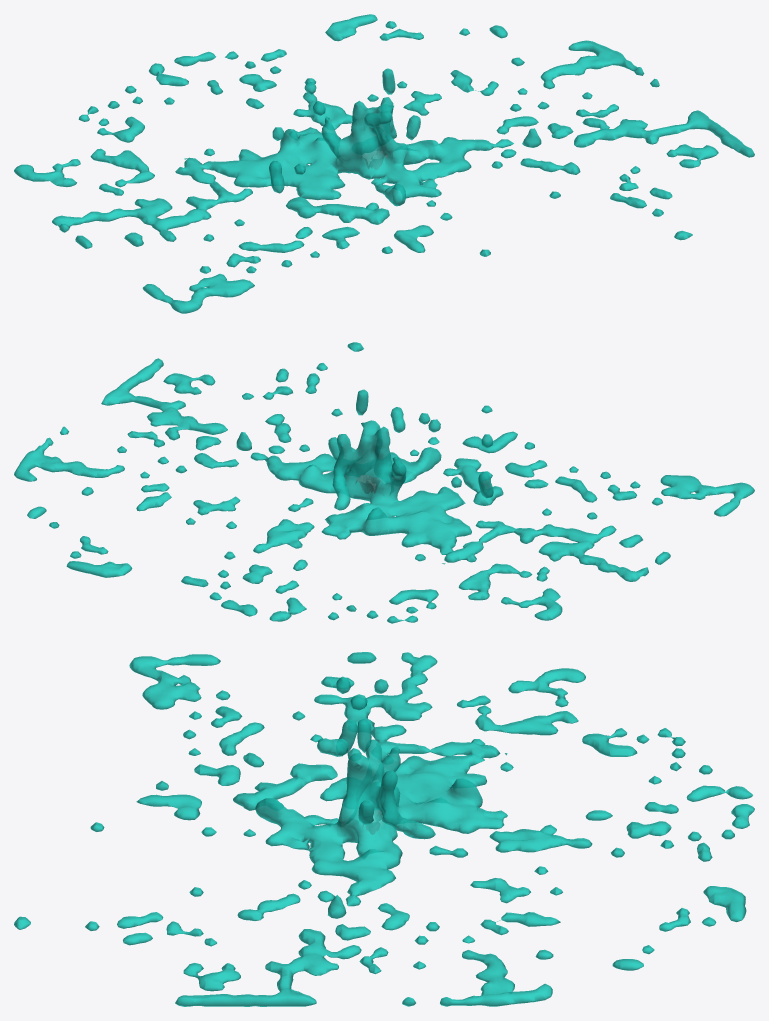
3 views of the same model, one above another, from view 1: azimuth 30°, elevation 25°; view 2: azimuth 150°, elevation 25°; view 3: azimuth 270°, elevation 25° (orthographic). The views are drawn at different scales.
Visible parts, largest first — view 1: Liquid_Domain; view 2: Liquid_Domain; view 3: Liquid_Domain.
Part boxes in pixels (x1,y1,x2,y2): Liquid_Domain: [14, 14, 754, 313]; Liquid_Domain: [14, 342, 754, 623]; Liquid_Domain: [14, 652, 754, 1006].
Bounding box in the file's own units: 12.43 × 2.05 × 11.18.
